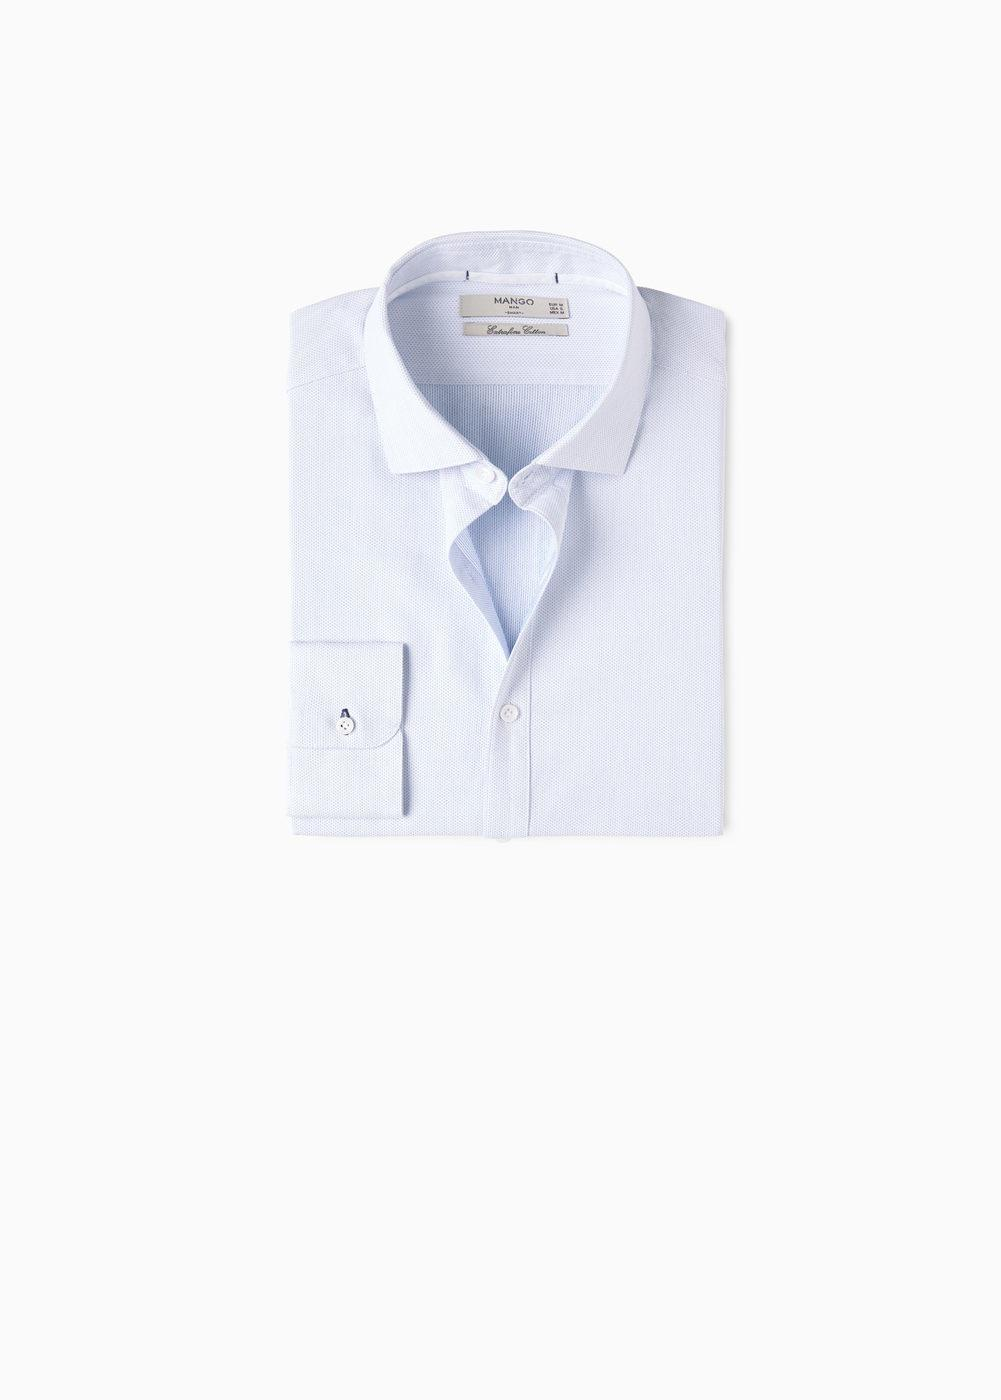teeshirt: (266, 212, 765, 874)
